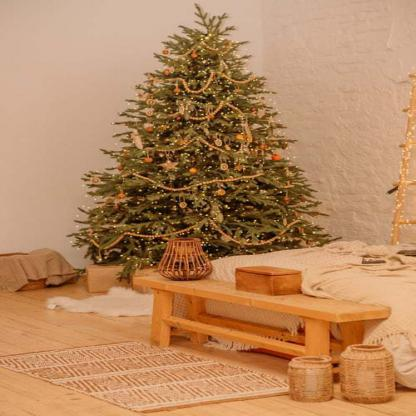x_mas tree: (93, 0, 322, 265)
